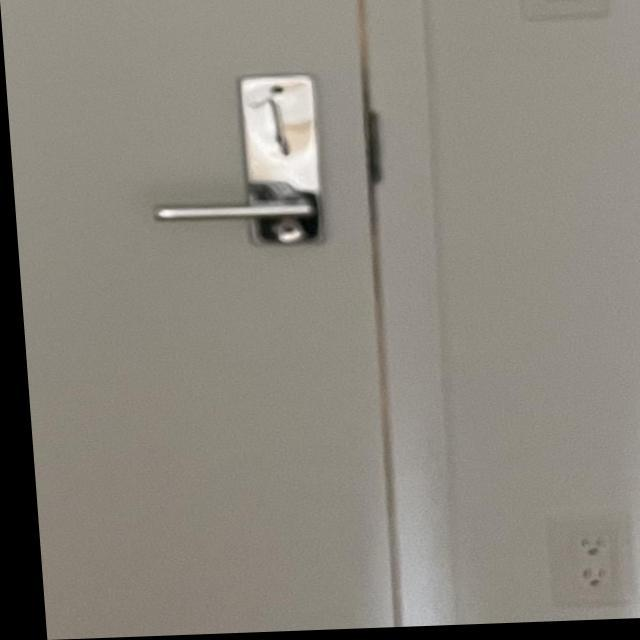door_handle: (133, 175, 333, 252)
